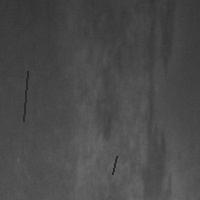inclusion: (143, 1, 177, 198), (96, 45, 124, 142), (21, 69, 29, 123), (110, 154, 118, 176)
